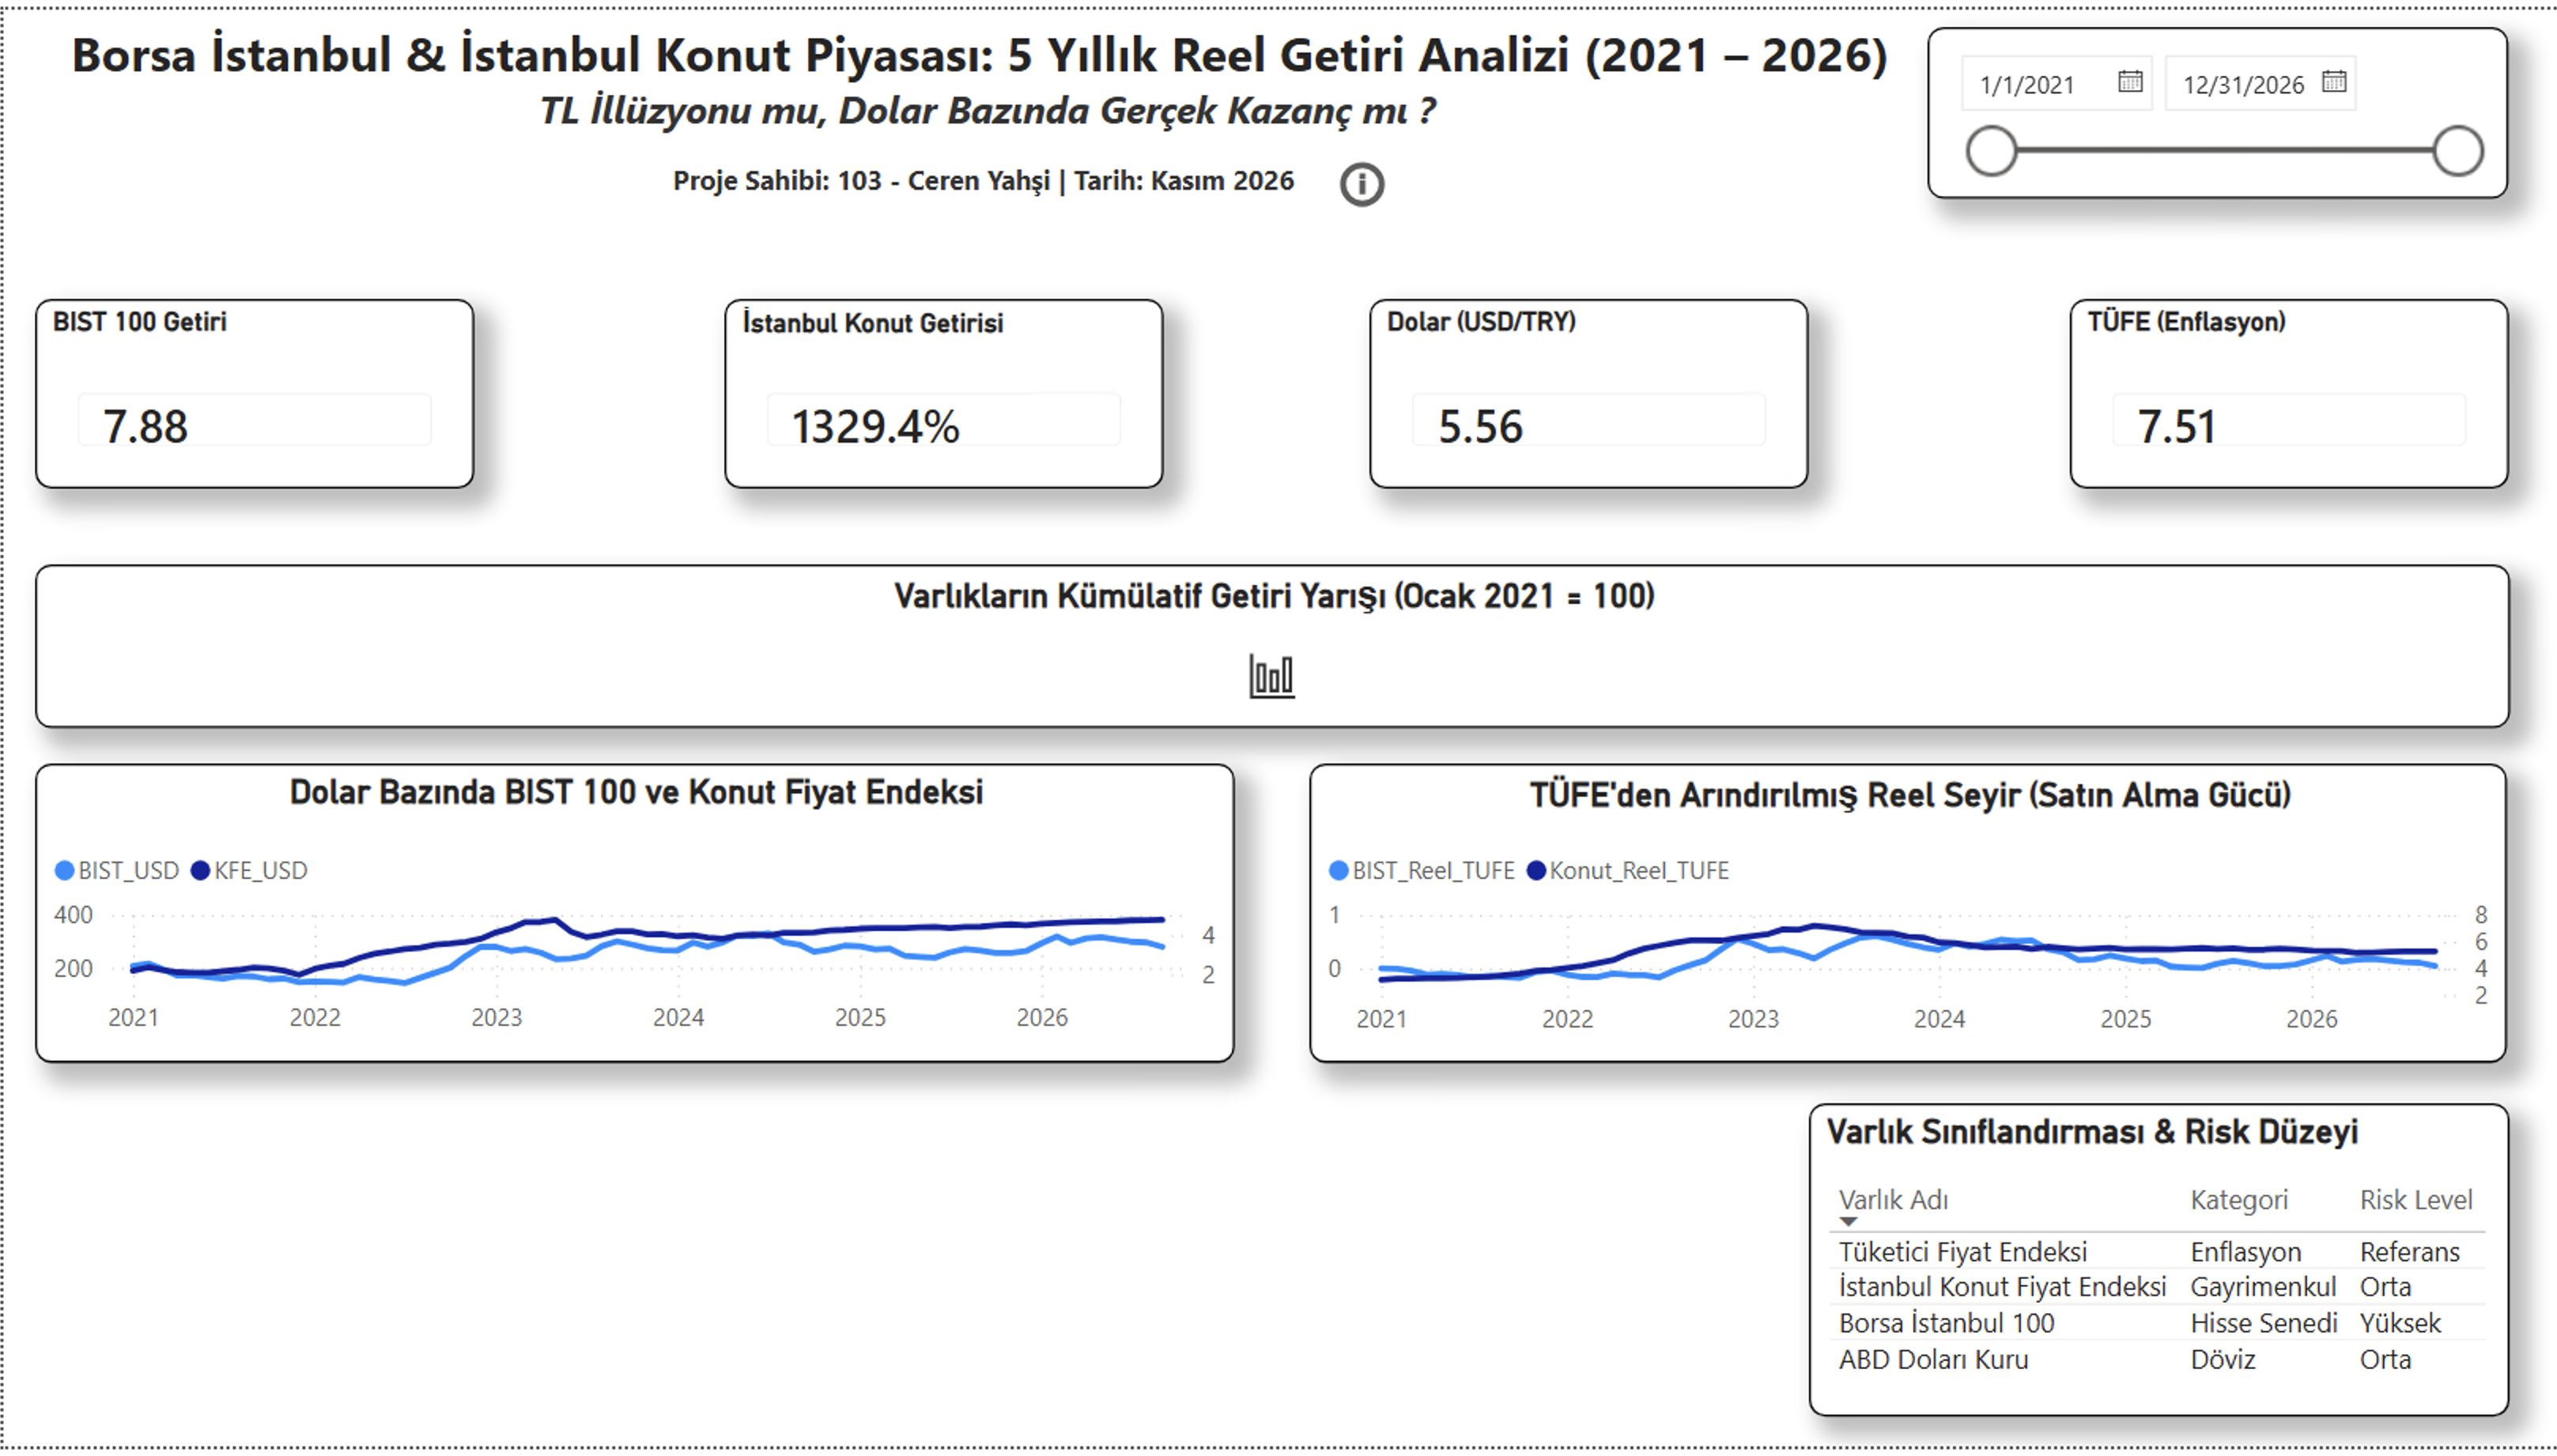

The page's visual inventory and layout, read from the dashboard file:
{"tool":"powerbi","page":{"name":"Reel Getiri & Varlık Özeti","canvas":[1280,720],"ordinal":0},"visuals":[{"type":"textbox","box":[10.3,0,964.7,102.8],"z":0},{"type":"slicer","fields":{"Values":["Dim_Date.Date"]},"box":[963.9,8.7,291.3,85.7],"z":1000},{"type":"lineChart","title":"Varlıkların Kümülatif Getiri Yarışı (Ocak 2021 = 100)","fields":{"Category":["Dim_Date.Date"],"Y":["_Measures.BIST_Index_100","_Measures.Konut_Index_100","_Measures.USD_Index_100","_Measures.TUFE_Index_100"]},"box":[15.7,277.7,1239.8,82.1],"z":2000},{"type":"lineChart","title":"Dolar Bazında BIST 100 ve Konut Fiyat Endeksi","fields":{"Category":["Dim_Date.Date"],"Y":["_Measures.BIST_USD"],"Y2":["_Measures.KFE_USD"]},"box":[15.5,377.9,600.7,149.6],"z":3000},{"type":"lineChart","title":"TÜFE''den Arındırılmış Reel Seyir (Satın Alma Gücü)","fields":{"Category":["Dim_Date.Date"],"Y":["_Measures.BIST_Reel_TUFE"],"Y2":["_Measures.Konut_Reel_TUFE"]},"box":[654.6,377.9,600,150],"z":4000},{"type":"cardVisual","title":"BIST 100 Getiri","fields":{"Data":["_Measures.BIST_Küm_Getiri"]},"box":[15.7,144.9,220,95],"z":5000},{"type":"cardVisual","title":"İstanbul Konut Getirisi","fields":{"Data":["_Measures.Konut_Küm_Getiri"]},"box":[361.5,144.9,220,95],"z":6000},{"type":"cardVisual","title":"Dolar (USD/TRY)","fields":{"Data":["_Measures.USD_Küm_Getiri"]},"box":[684.5,144.9,220,95],"z":7000},{"type":"tableEx","title":"Varlık Sınıflandırması & Risk Düzeyi","fields":{"Values":["Dim_Asset.AssetName","Dim_Asset.Category","Dim_Asset.RiskLevel"]},"box":[904.6,548.3,351,157.2],"z":8000},{"type":"textbox","box":[330,71.6,571,45.4],"z":9000},{"type":"cardVisual","title":"TÜFE (Enflasyon)","fields":{"Data":["_Measures.TUFE_Küm_Artis"]},"box":[1035.5,144.9,220,95],"z":10000},{"type":"actionButton","box":[665.1,72.3,33.9,31],"z":11000}]}

Visuals, with their boxes in screenshot pixels (x1, y1, x2, y2), scaled from the page's 1280x720 canvas onto the 2557x1456 screenshot:
textbox: 21 0 1947 208
slicer - Dim_Date.Date: 1925 17 2507 191
"Varlıkların Kümülatif Getiri Yarışı (Ocak 2021 = 100)" lineChart: 32 561 2508 727
"Dolar Bazında BIST 100 ve Konut Fiyat Endeksi" lineChart: 31 764 1231 1067
"TÜFE''den Arındırılmış Reel Seyir (Satın Alma Gücü)" lineChart: 1308 764 2506 1068
"BIST 100 Getiri" cardVisual: 32 293 471 485
"İstanbul Konut Getirisi" cardVisual: 722 293 1161 485
"Dolar (USD/TRY)" cardVisual: 1367 293 1807 485
"Varlık Sınıflandırması & Risk Düzeyi" tableEx: 1807 1109 2508 1427
textbox: 659 145 1800 236
"TÜFE (Enflasyon)" cardVisual: 2068 293 2508 485
actionButton: 1328 146 1396 209
